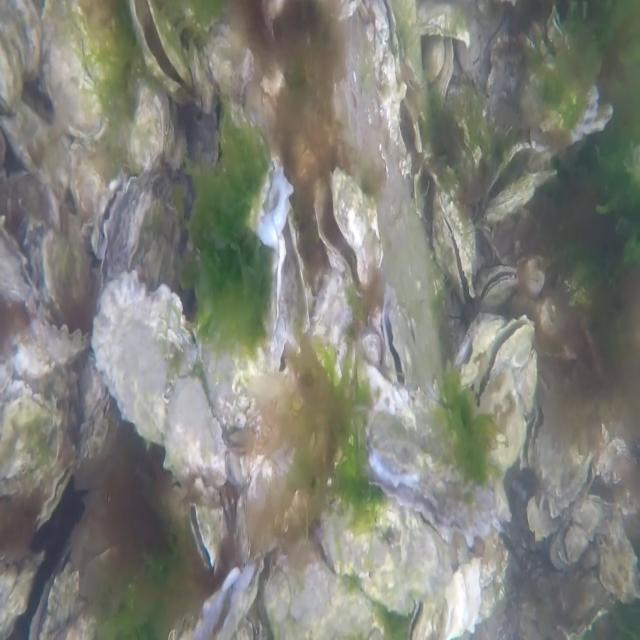Oyster-Closed: (42, 0, 128, 140), (482, 167, 558, 227), (34, 459, 76, 534), (392, 0, 423, 87), (38, 313, 92, 362), (359, 327, 383, 373)
Oyster-Indeterminate: (91, 268, 228, 480), (316, 492, 449, 617), (244, 364, 300, 528), (0, 379, 66, 498), (2, 100, 74, 194), (308, 267, 353, 387), (41, 222, 97, 315), (0, 0, 43, 113), (124, 88, 167, 175)
Oyster-Open: (362, 393, 499, 548), (206, 22, 292, 252), (310, 169, 383, 301), (29, 532, 109, 640), (369, 0, 422, 154), (528, 397, 594, 520), (470, 312, 536, 414), (193, 553, 265, 640), (127, 0, 193, 94), (429, 195, 478, 306), (274, 208, 308, 347), (448, 312, 506, 388), (92, 170, 138, 264), (376, 284, 412, 389), (0, 224, 40, 306), (188, 502, 226, 572), (476, 264, 519, 306)
